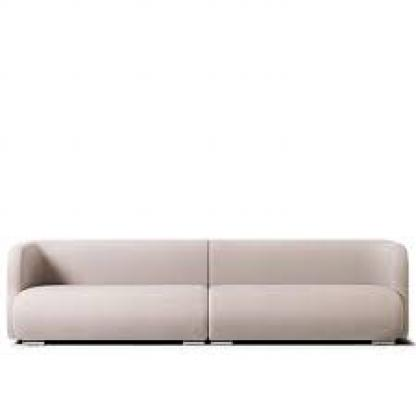sofa: (4, 233, 408, 355), (19, 233, 412, 355)
